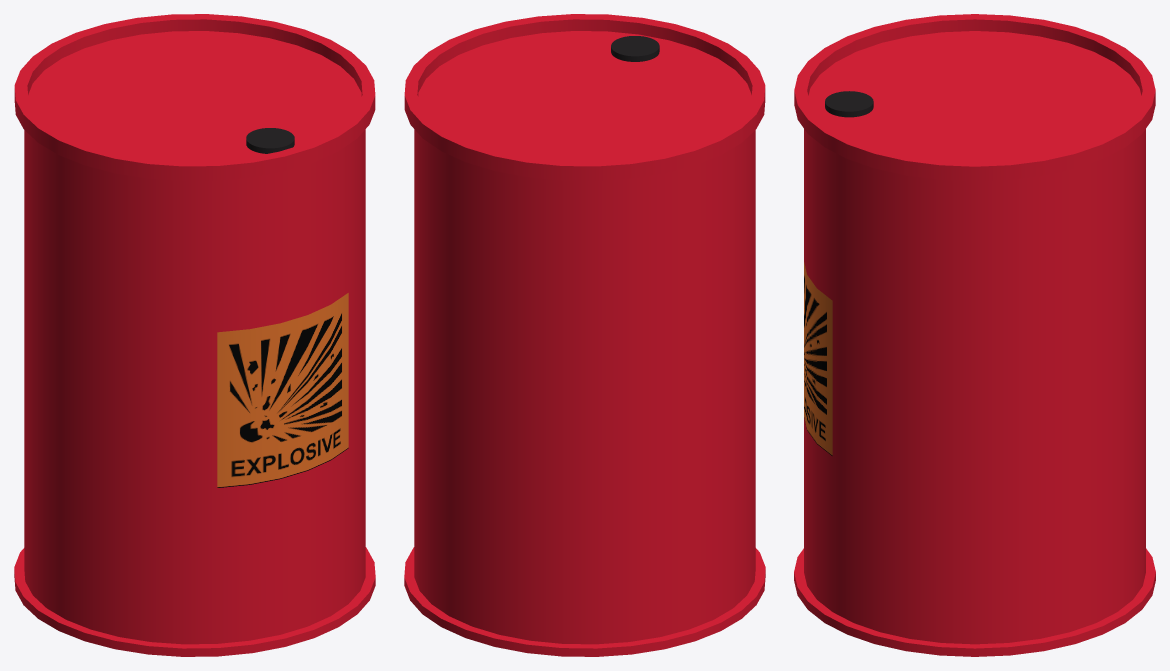
Rendered from explosive.fbx.
The picture shows the model from 3 angles, left to right: view 1: azimuth 30°, elevation 25°; view 2: azimuth 150°, elevation 25°; view 3: azimuth 270°, elevation 25°; orthographic projection.
Parts seen in each view (by area): view 1: Cylinder; view 2: Cylinder; view 3: Cylinder.
Boxes of the visible parts, x1,y1,x2,y2 form: Cylinder: (14,14,375,656); Cylinder: (404,14,765,656); Cylinder: (794,14,1155,656).
Bounding box in the file's own units: 212 × 316 × 212.
3 materials, 1 textured.
